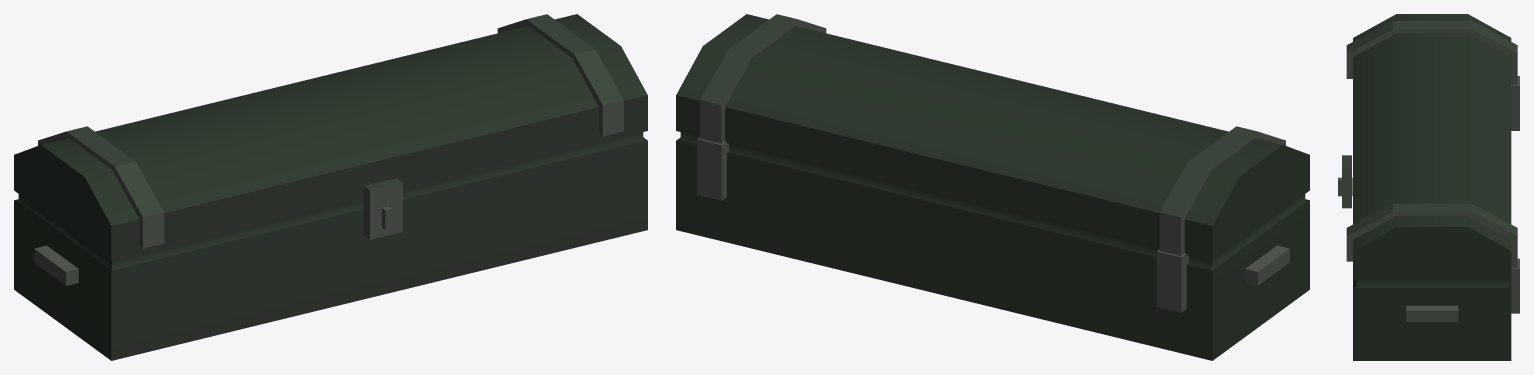
Rendered from SF_Prop_Elven_Chest_01.glb.
3 views of the same model, side by side, from view 1: azimuth 30°, elevation 25°; view 2: azimuth 150°, elevation 25°; view 3: azimuth 270°, elevation 25° (orthographic). The views are drawn at different scales.
Parts seen in each view (by area): view 1: SF_Prop_Elven_Chest_Lid_01, SF_Prop_Elven_Chest_01; view 2: SF_Prop_Elven_Chest_Lid_01, SF_Prop_Elven_Chest_01; view 3: SF_Prop_Elven_Chest_Lid_01, SF_Prop_Elven_Chest_01.
Part boxes in pixels (<box>): SF_Prop_Elven_Chest_Lid_01: <box>14,14,647,261</box>; SF_Prop_Elven_Chest_01: <box>14,132,647,360</box>; SF_Prop_Elven_Chest_Lid_01: <box>676,14,1309,261</box>; SF_Prop_Elven_Chest_01: <box>676,132,1309,360</box>; SF_Prop_Elven_Chest_Lid_01: <box>1342,14,1517,280</box>; SF_Prop_Elven_Chest_01: <box>1338,76,1519,360</box>.
Size of the model in its own units: 0.0331 by 0.00954 by 0.0114.
1 material, 1 textured.
